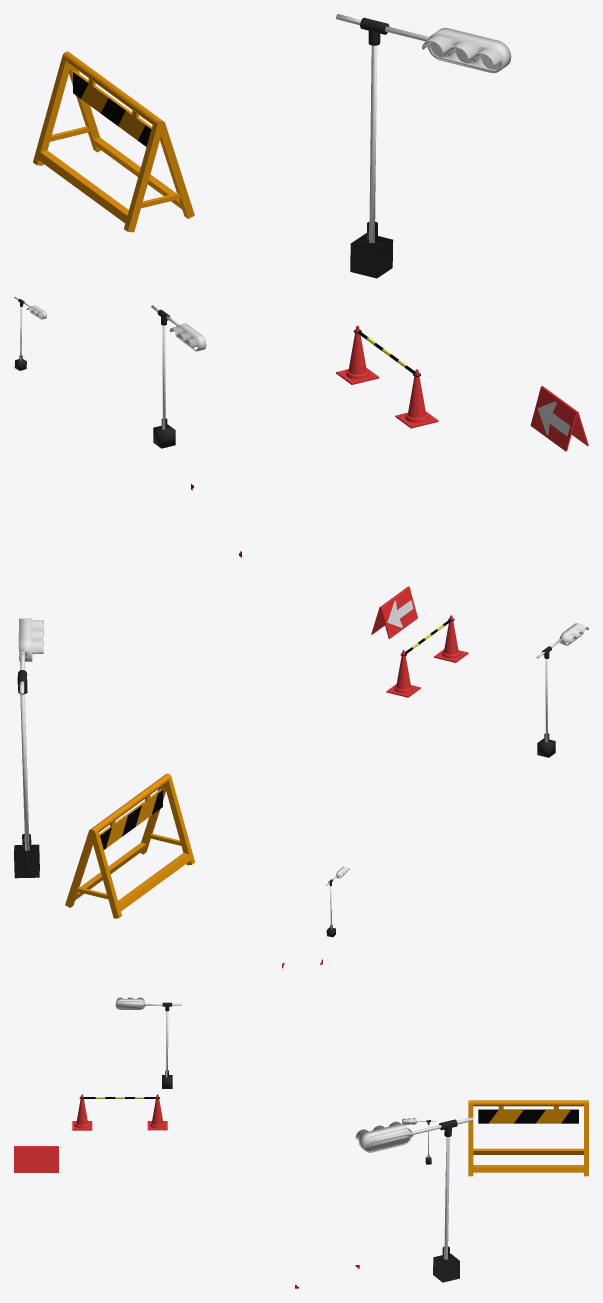
The model's file is trafic_light.fbx.
3 views of the same model, one above another, from view 1: azimuth 30°, elevation 25°; view 2: azimuth 150°, elevation 25°; view 3: azimuth 270°, elevation 25° (orthographic). The views are drawn at different scales.
Visible parts, largest first — view 1: barricade, light_bar, light_body, arrow, back_trafic_light, cone_1, cone_0; view 2: barricade, light_bar, arrow, back_trafic_light, light_body, cone_0, cone_1; view 3: barricade, light_bar, arrow, light_body, back_trafic_light, cone_0, cone_1.
Boxes of the visible parts, bbox=[...] form: barricade: bbox=[33, 51, 194, 232]; light_bar: bbox=[336, 14, 429, 278]; light_body: bbox=[422, 28, 511, 73]; arrow: bbox=[530, 386, 588, 451]; back_trafic_light: bbox=[151, 305, 206, 448]; cone_1: bbox=[395, 369, 438, 428]; cone_0: bbox=[336, 325, 379, 384]; barricade: bbox=[65, 773, 195, 918]; light_bar: bbox=[14, 654, 39, 878]; arrow: bbox=[371, 586, 417, 638]; back_trafic_light: bbox=[536, 623, 588, 757]; light_body: bbox=[18, 618, 43, 661]; cone_0: bbox=[386, 650, 420, 697]; cone_1: bbox=[434, 615, 468, 662]; barricade: bbox=[468, 1100, 588, 1176]; light_bar: bbox=[412, 1117, 473, 1282]; arrow: bbox=[14, 1146, 58, 1172]; light_body: bbox=[355, 1121, 413, 1152]; back_trafic_light: bbox=[115, 997, 181, 1088]; cone_0: bbox=[147, 1094, 167, 1130]; cone_1: bbox=[72, 1094, 92, 1130].
Bounding box in the file's own units: 37546 × 27595 × 57227.
